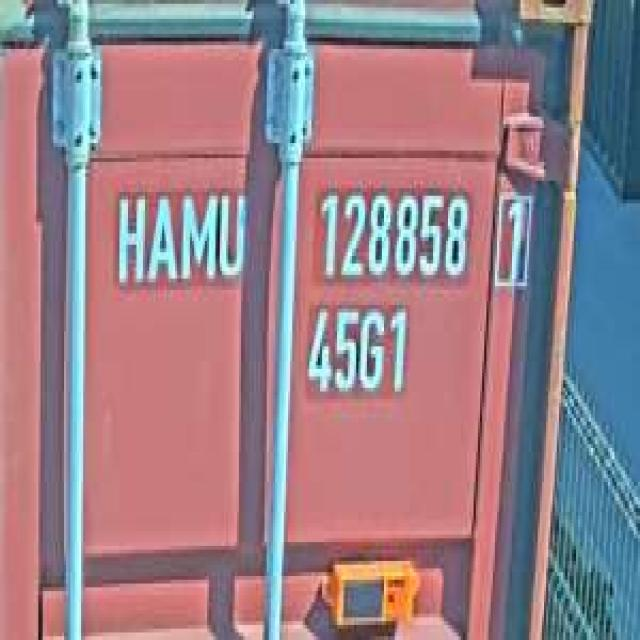dv: (490, 180, 536, 294)
owner: (109, 177, 247, 297)
serial: (309, 177, 474, 290)
size: (298, 298, 412, 407)
